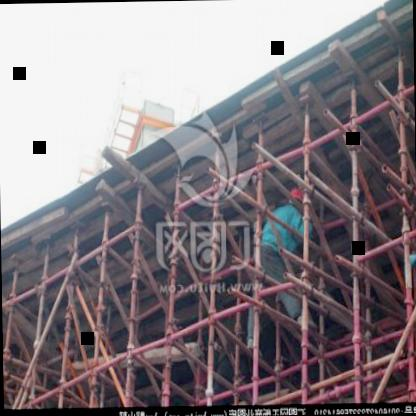helmet: (285, 177, 312, 210)
